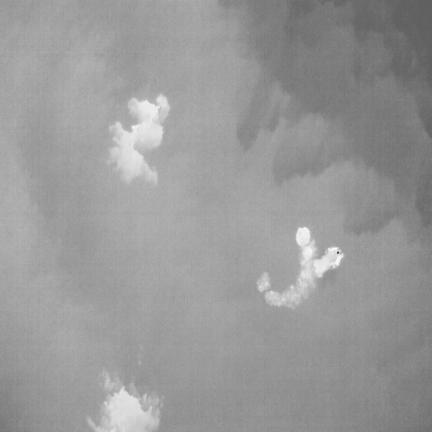flukeprints: (109, 94, 169, 182), (87, 370, 161, 431), (263, 262, 317, 308), (314, 247, 344, 276), (296, 227, 310, 246)
